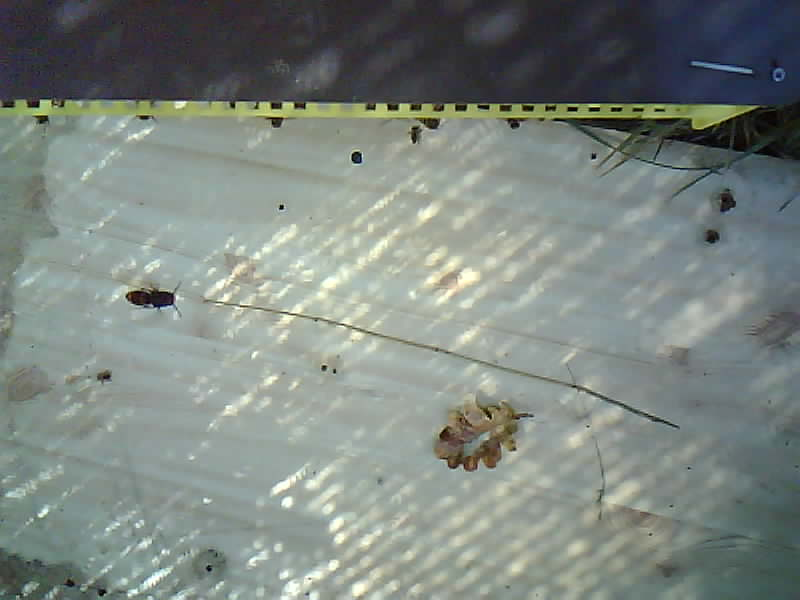hornet: (121, 285, 180, 311)
